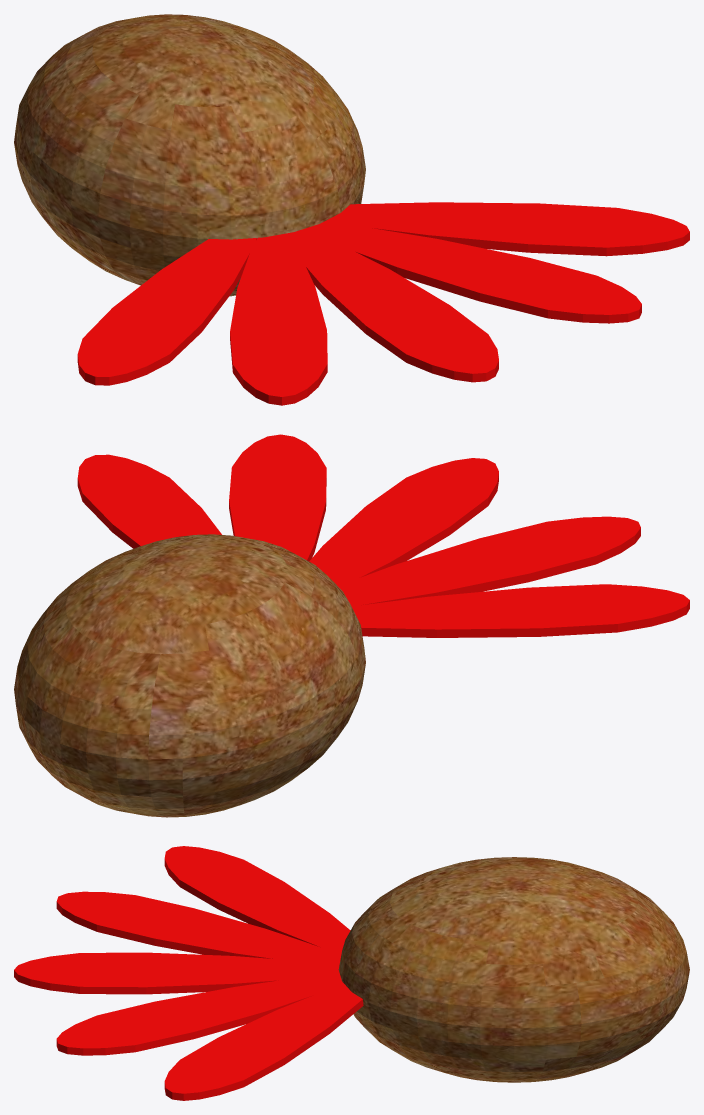
File: シャトル 1.fbx
The picture shows the model from 3 angles, top to bottom: view 1: azimuth 30°, elevation 25°; view 2: azimuth 150°, elevation 25°; view 3: azimuth 270°, elevation 25°; orthographic projection. The views are drawn at different scales.
Parts seen in each view (by area): view 1: 球; view 2: 球; view 3: 球.
Part boxes in pixels (<box>): 球: <box>14,14,689,405</box>; 球: <box>14,434,689,817</box>; 球: <box>14,846,689,1100</box>.
Size of the model in its own units: 272 by 98.75 by 313.
